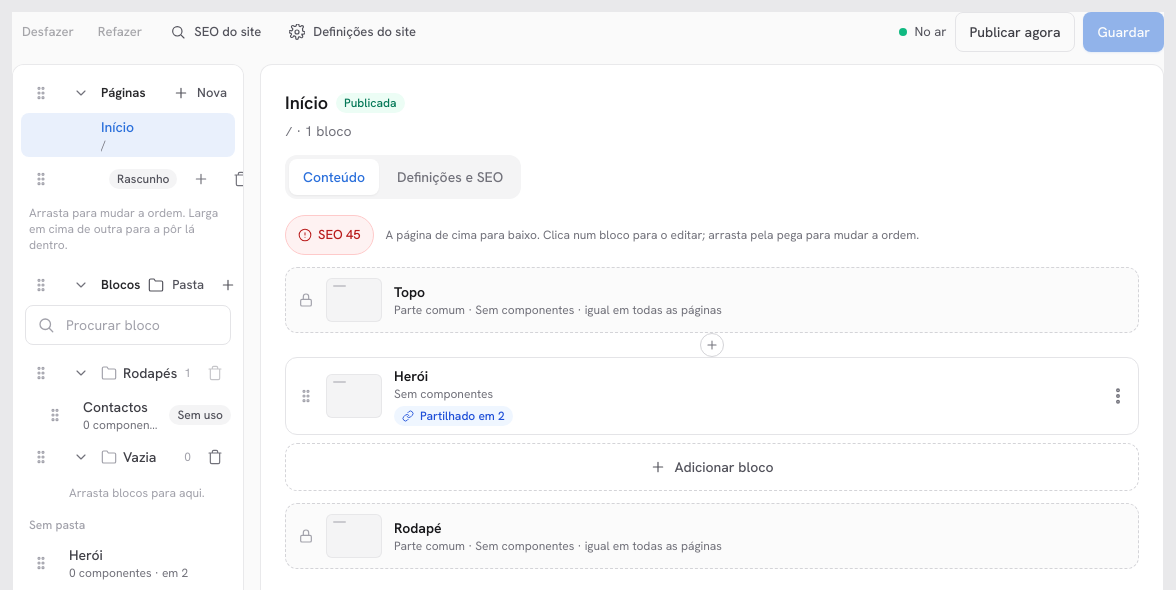
Test: Paginas · lista lateral › apagar pasta: desligado com blocos lá dentro, funciona na vazia e desfaz-se
Expected: the 1st button named "Apagar pasta" is disabled, x1=195 y1=353 x2=235 y2=393
Click the 2nd button named "Apagar pasta": (215, 457) x1=195 y1=437 x2=235 y2=477
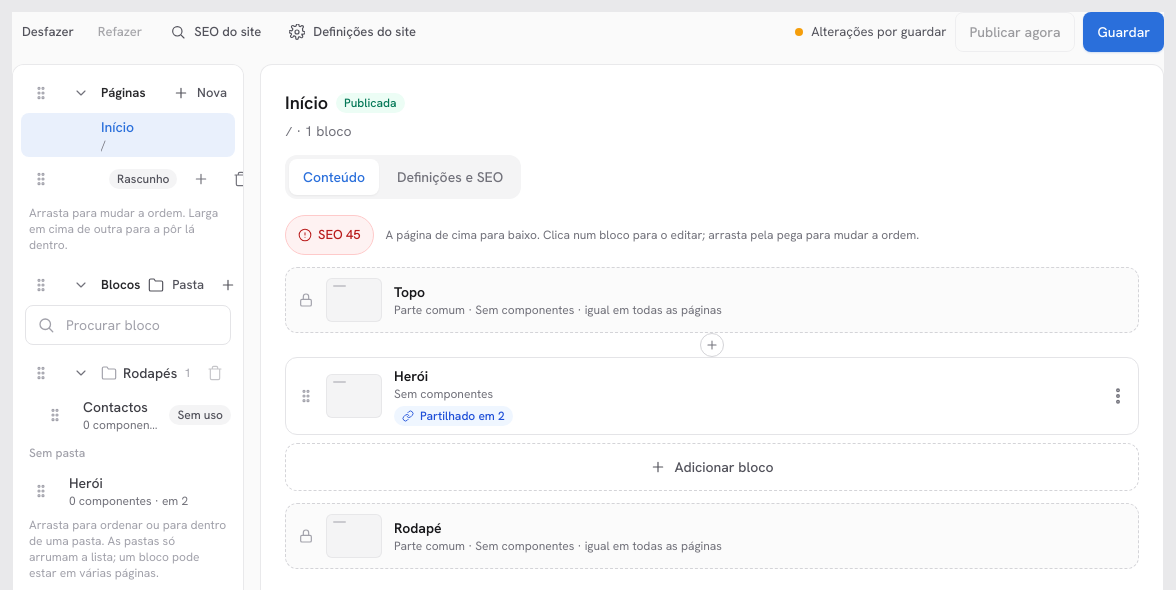
Now the button "Vazia" is gone
Click the button "Desfazer": (48, 32) x1=12 y1=12 x2=84 y2=52
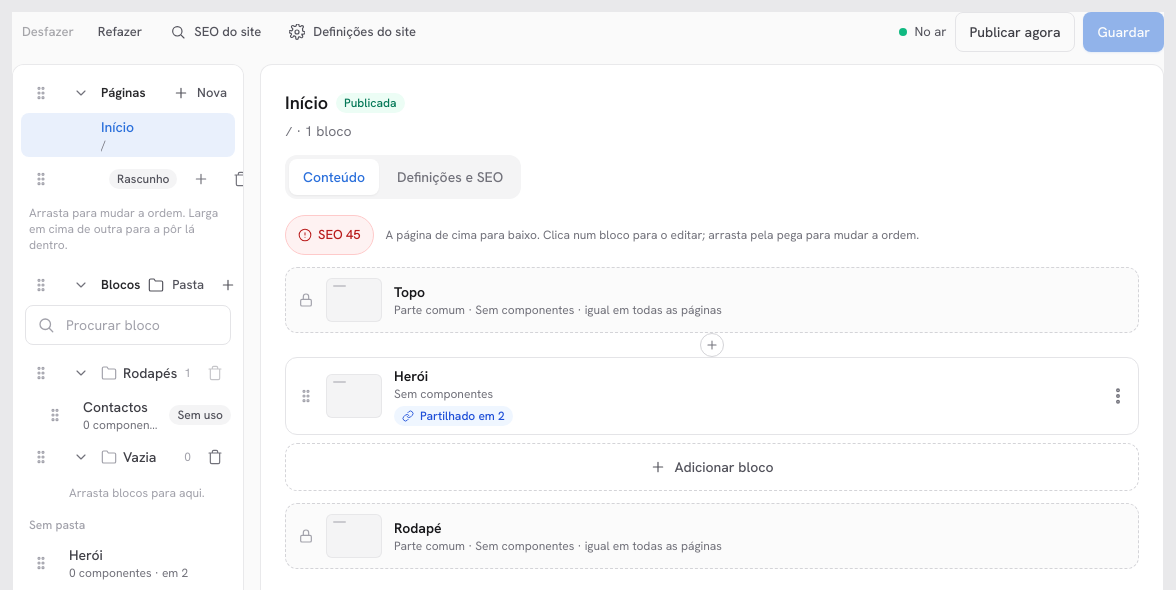
Now the button "Vazia" is shown, box x1=123 y1=437 x2=180 y2=477
